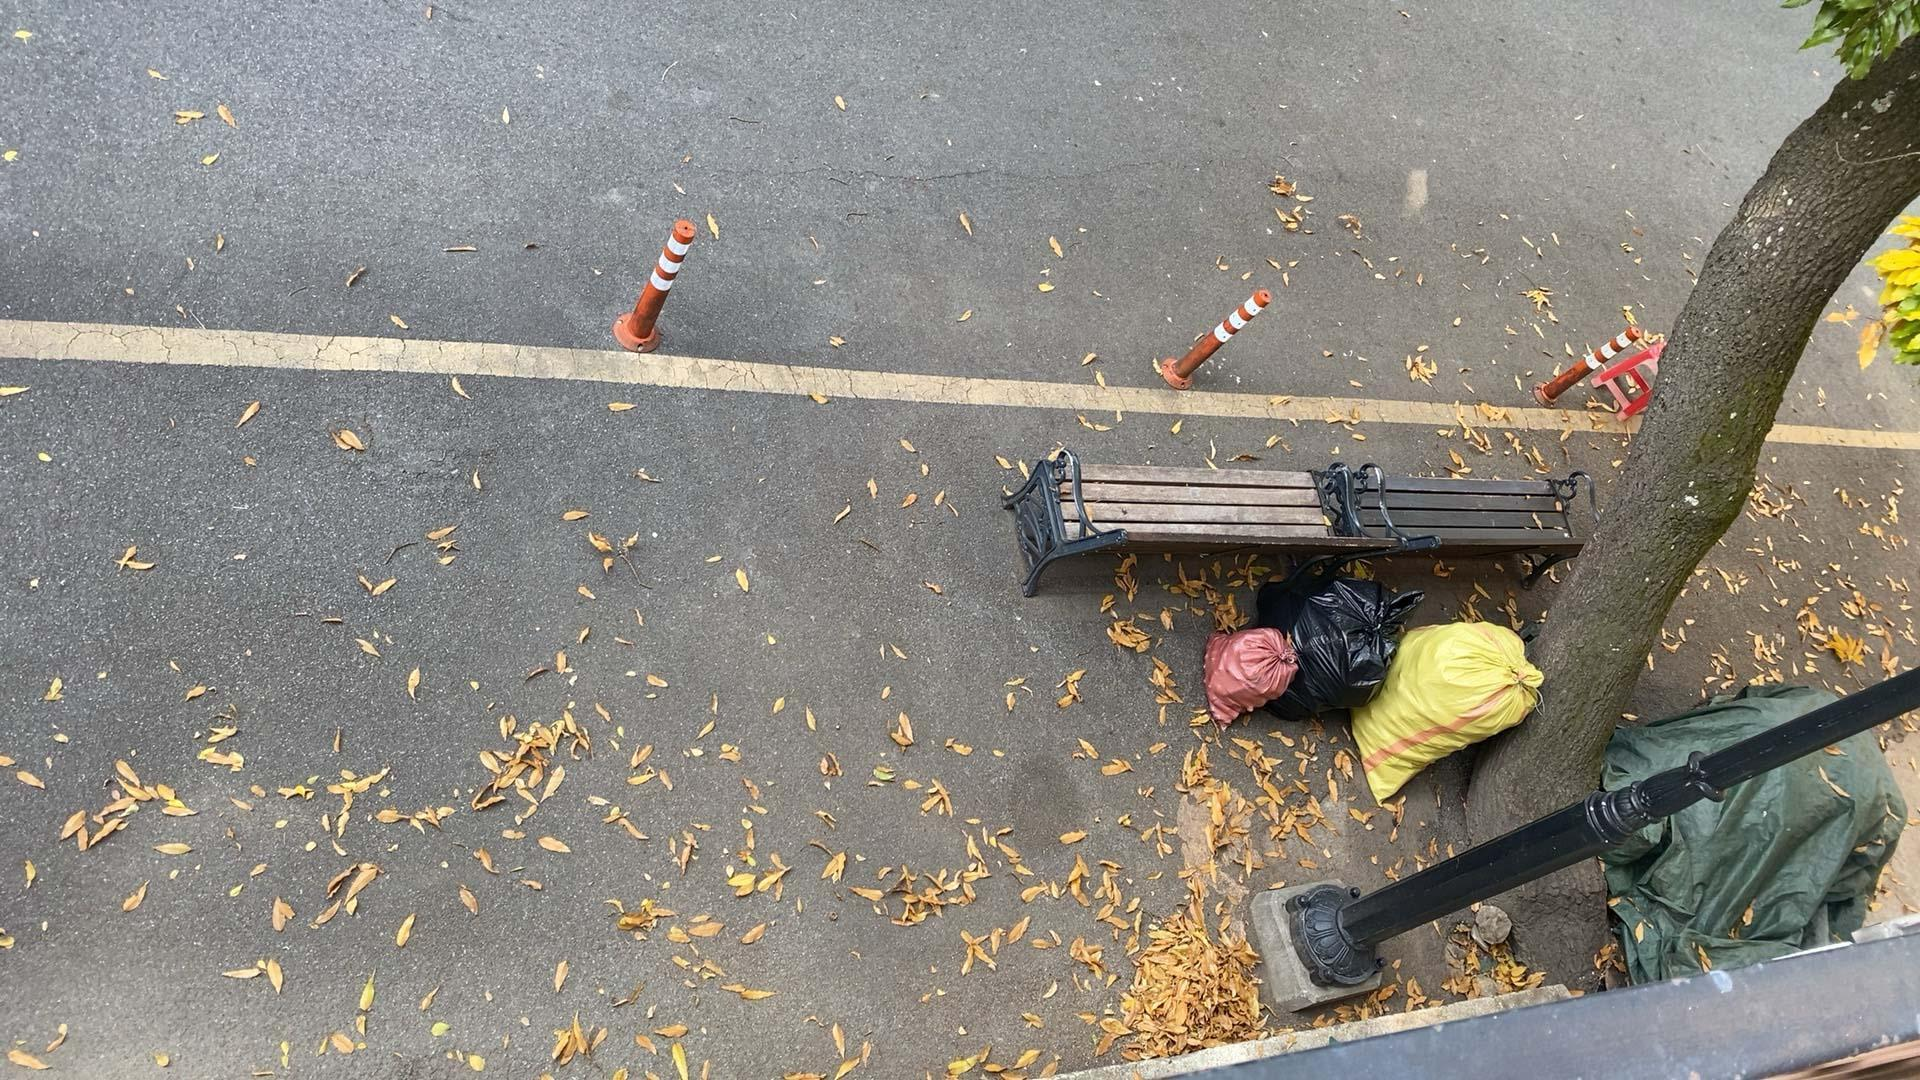black_bag: (1251, 570, 1425, 723)
